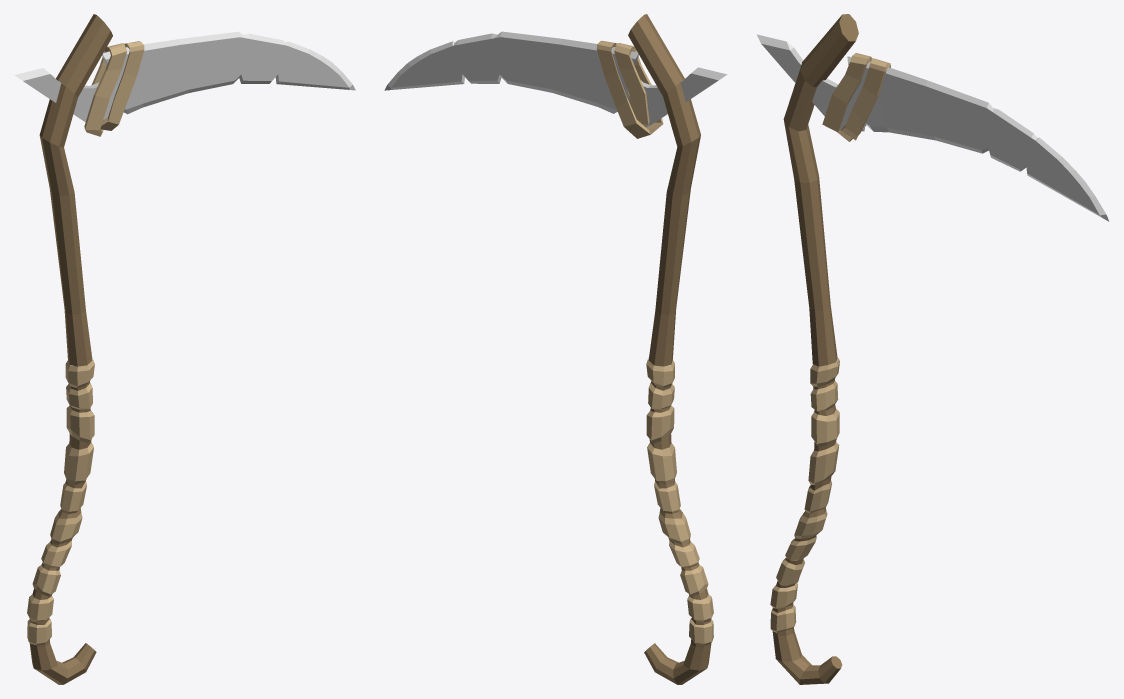
Rendered from q_scythe.gltf.
3 renders of one model, left to right at view 1: azimuth 30°, elevation 25°; view 2: azimuth 150°, elevation 25°; view 3: azimuth 330°, elevation 25°, orthographic. The views are drawn at different scales.
Parts seen in each view (by area): view 1: Scythe; view 2: Scythe; view 3: Scythe.
Boxes of the visible parts, bbox=[...] form: Scythe: bbox=[14, 14, 355, 684]; Scythe: bbox=[384, 14, 727, 684]; Scythe: bbox=[756, 14, 1109, 684].
Bounding box in the file's own units: 1.14 × 2.1 × 0.1042.
